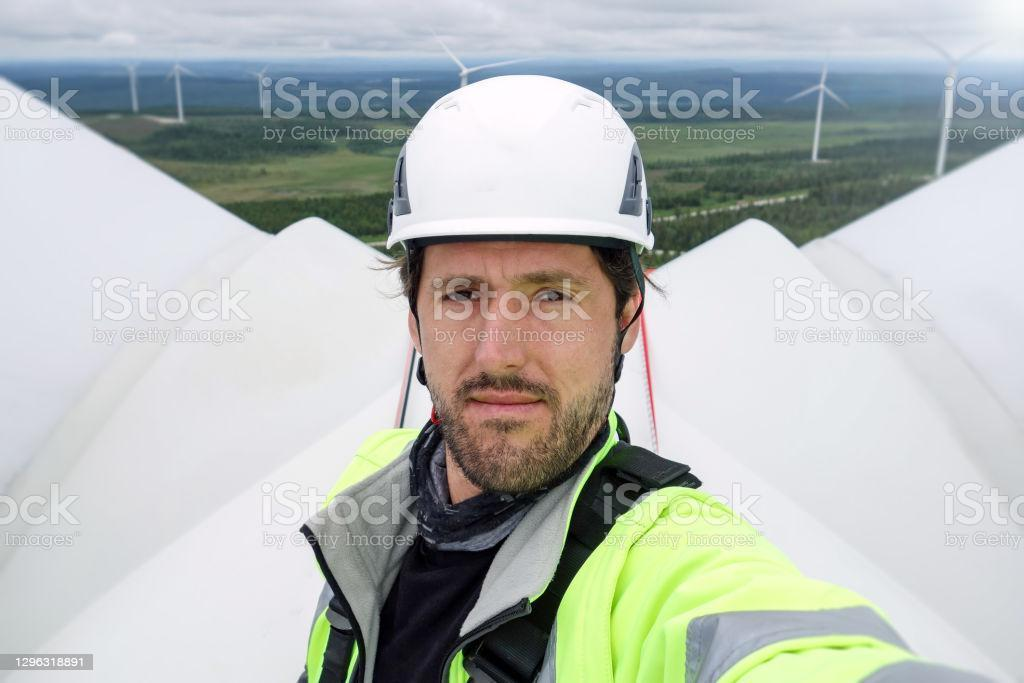helmet: (385, 73, 655, 255)
